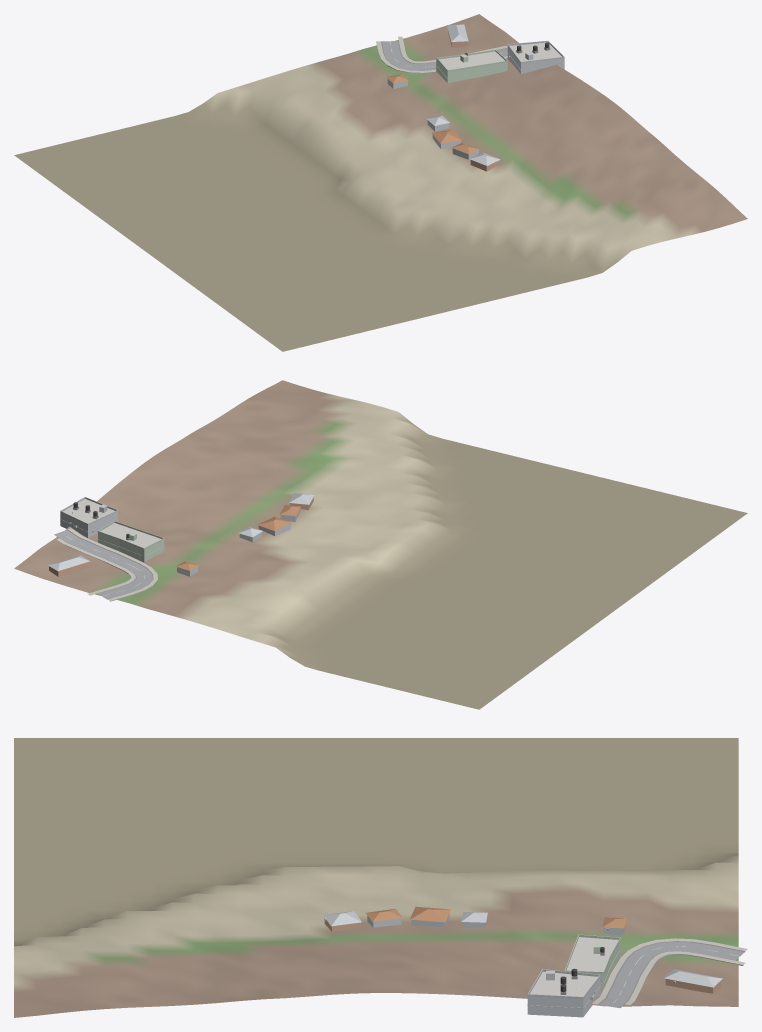
The picture shows the model from 3 angles, top to bottom: view 1: azimuth 30°, elevation 25°; view 2: azimuth 150°, elevation 25°; view 3: azimuth 270°, elevation 25°; orthographic projection. The views are drawn at different scales.
Visible parts, largest first — view 1: Terrain-col, Buildings-col, Details, Roads-col, Sidewalks-col; view 2: Terrain-col, Buildings-col, Roads-col, Details, Sidewalks-col; view 3: Terrain-col, Buildings-col, Roads-col, Sidewalks-col, Details.
Part boxes in pixels (x1,y1,x2,y2): Terrain-col: (14, 14, 747, 351); Buildings-col: (386, 24, 564, 171); Details: (436, 40, 564, 166); Roads-col: (381, 41, 507, 70); Sidewalks-col: (376, 36, 507, 72); Terrain-col: (14, 380, 747, 709); Buildings-col: (48, 493, 314, 576); Roads-col: (54, 529, 153, 599); Details: (60, 497, 285, 556); Sidewalks-col: (56, 528, 157, 601); Terrain-col: (14, 738, 738, 1017); Buildings-col: (323, 906, 722, 1017); Roads-col: (598, 941, 744, 1007); Sidewalks-col: (592, 938, 747, 1005); Details: (324, 918, 675, 1008).
Bounding box in the file's own units: 262 × 23.86 × 259.
